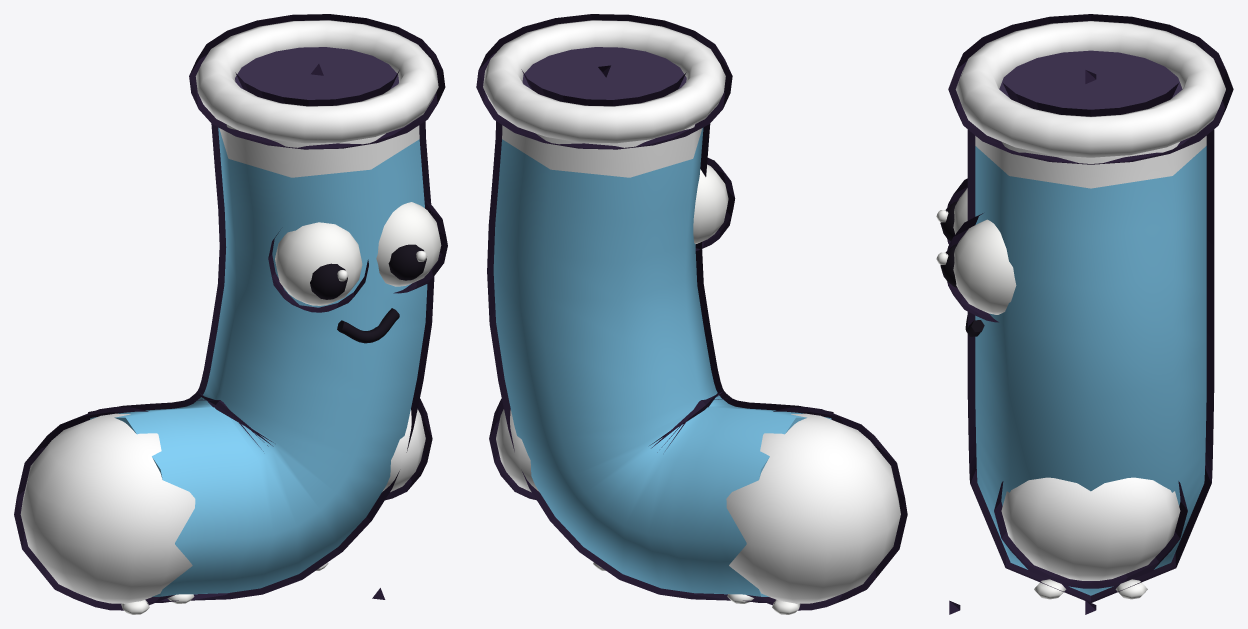
Rendered from Slipperino_L.glb.
3 renders of one model, left to right at view 1: azimuth 30°, elevation 25°; view 2: azimuth 150°, elevation 25°; view 3: azimuth 270°, elevation 25°, orthographic. The views are drawn at different scales.
Visible parts, largest first — view 1: Slipperino_L, Slipperino_L_Outline; view 2: Slipperino_L, Slipperino_L_Outline; view 3: Slipperino_L, Slipperino_L_Outline.
Boxes of the visible parts, x1,y1,x2,y2 form: Slipperino_L: (20, 20, 441, 614); Slipperino_L_Outline: (14, 14, 447, 610); Slipperino_L: (483, 20, 900, 614); Slipperino_L_Outline: (476, 14, 907, 610); Slipperino_L: (936, 21, 1225, 599); Slipperino_L_Outline: (944, 14, 1233, 602).
Size of the model in its own units: 3.77 by 4.62 by 2.18.
Materials: 1 (1 with a texture image).
